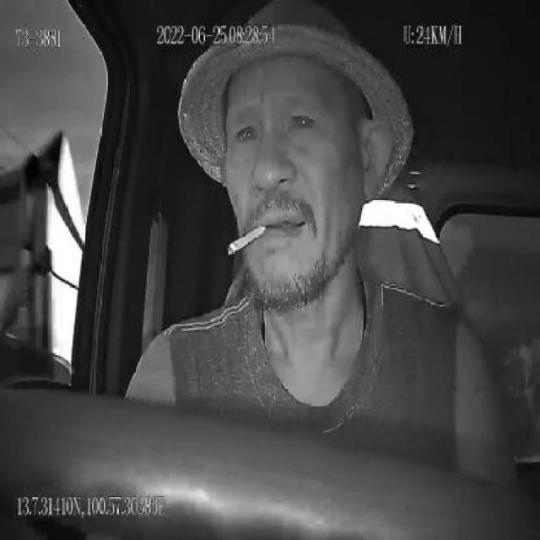smoking: (226, 222, 266, 258)
